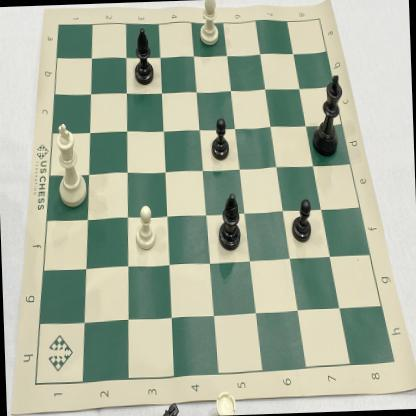bishop: (215, 190, 247, 254), (132, 22, 158, 90), (196, 0, 224, 53)
king: (308, 65, 349, 160), (49, 117, 89, 214)
pawn: (132, 199, 160, 254), (288, 194, 314, 248), (210, 113, 230, 162)
